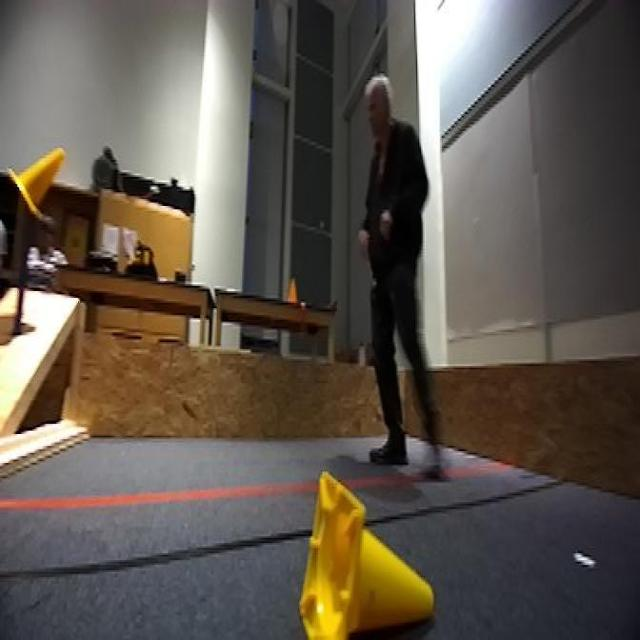frc_cone: (296, 468, 437, 640), (6, 143, 66, 223)
